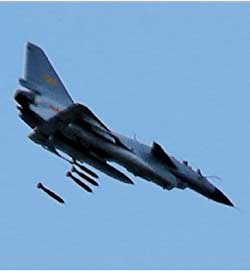airplane: (8, 40, 236, 207)
